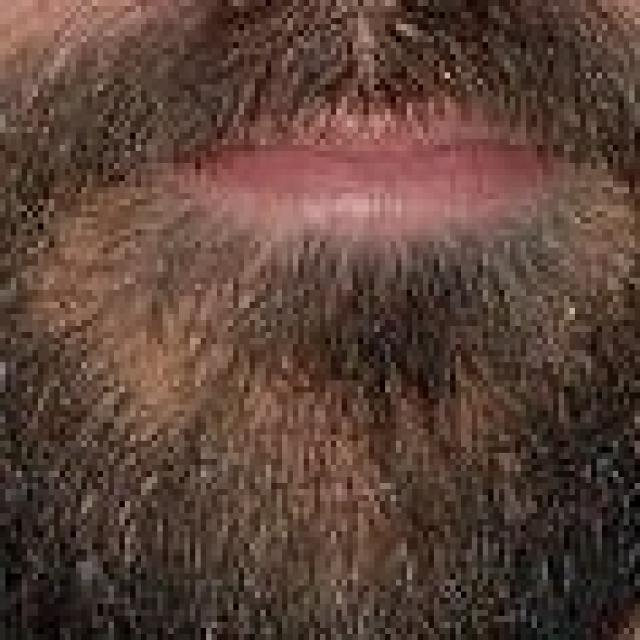closed-mouth: (149, 110, 571, 228)
